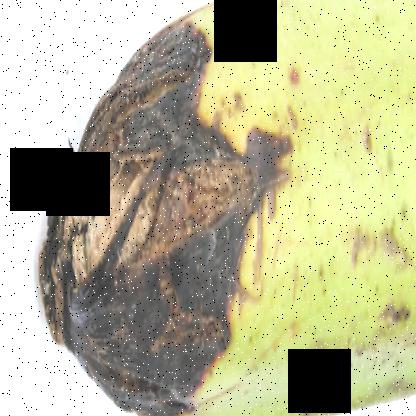rotten: (32, 25, 282, 416)
unripe: (244, 0, 415, 415)
